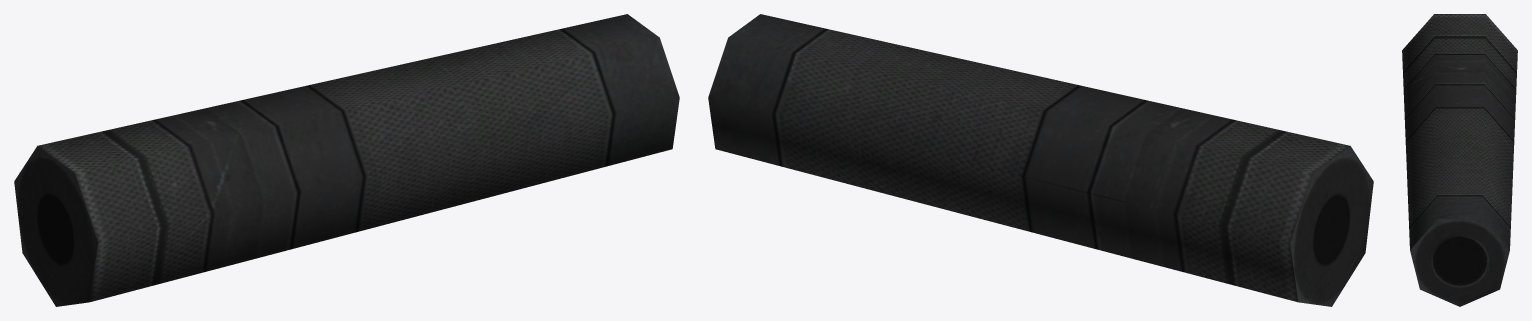
The model's file is t6_attach_ar_silencer4_world_LOD1.obj.
3 renders of one model, left to right at view 1: azimuth 30°, elevation 25°; view 2: azimuth 150°, elevation 25°; view 3: azimuth 270°, elevation 25°, orthographic. The views are drawn at different scales.
Visible parts, largest first — view 1: mtl_t6_attach_rus_silencer; view 2: mtl_t6_attach_rus_silencer; view 3: mtl_t6_attach_rus_silencer.
Part boxes in pixels (x1,y1,x2,y2): mtl_t6_attach_rus_silencer: (14, 14, 679, 306); mtl_t6_attach_rus_silencer: (708, 14, 1373, 306); mtl_t6_attach_rus_silencer: (1402, 14, 1517, 306).
Bounding box in the file's own units: 19.67 × 4.72 × 4.86.
